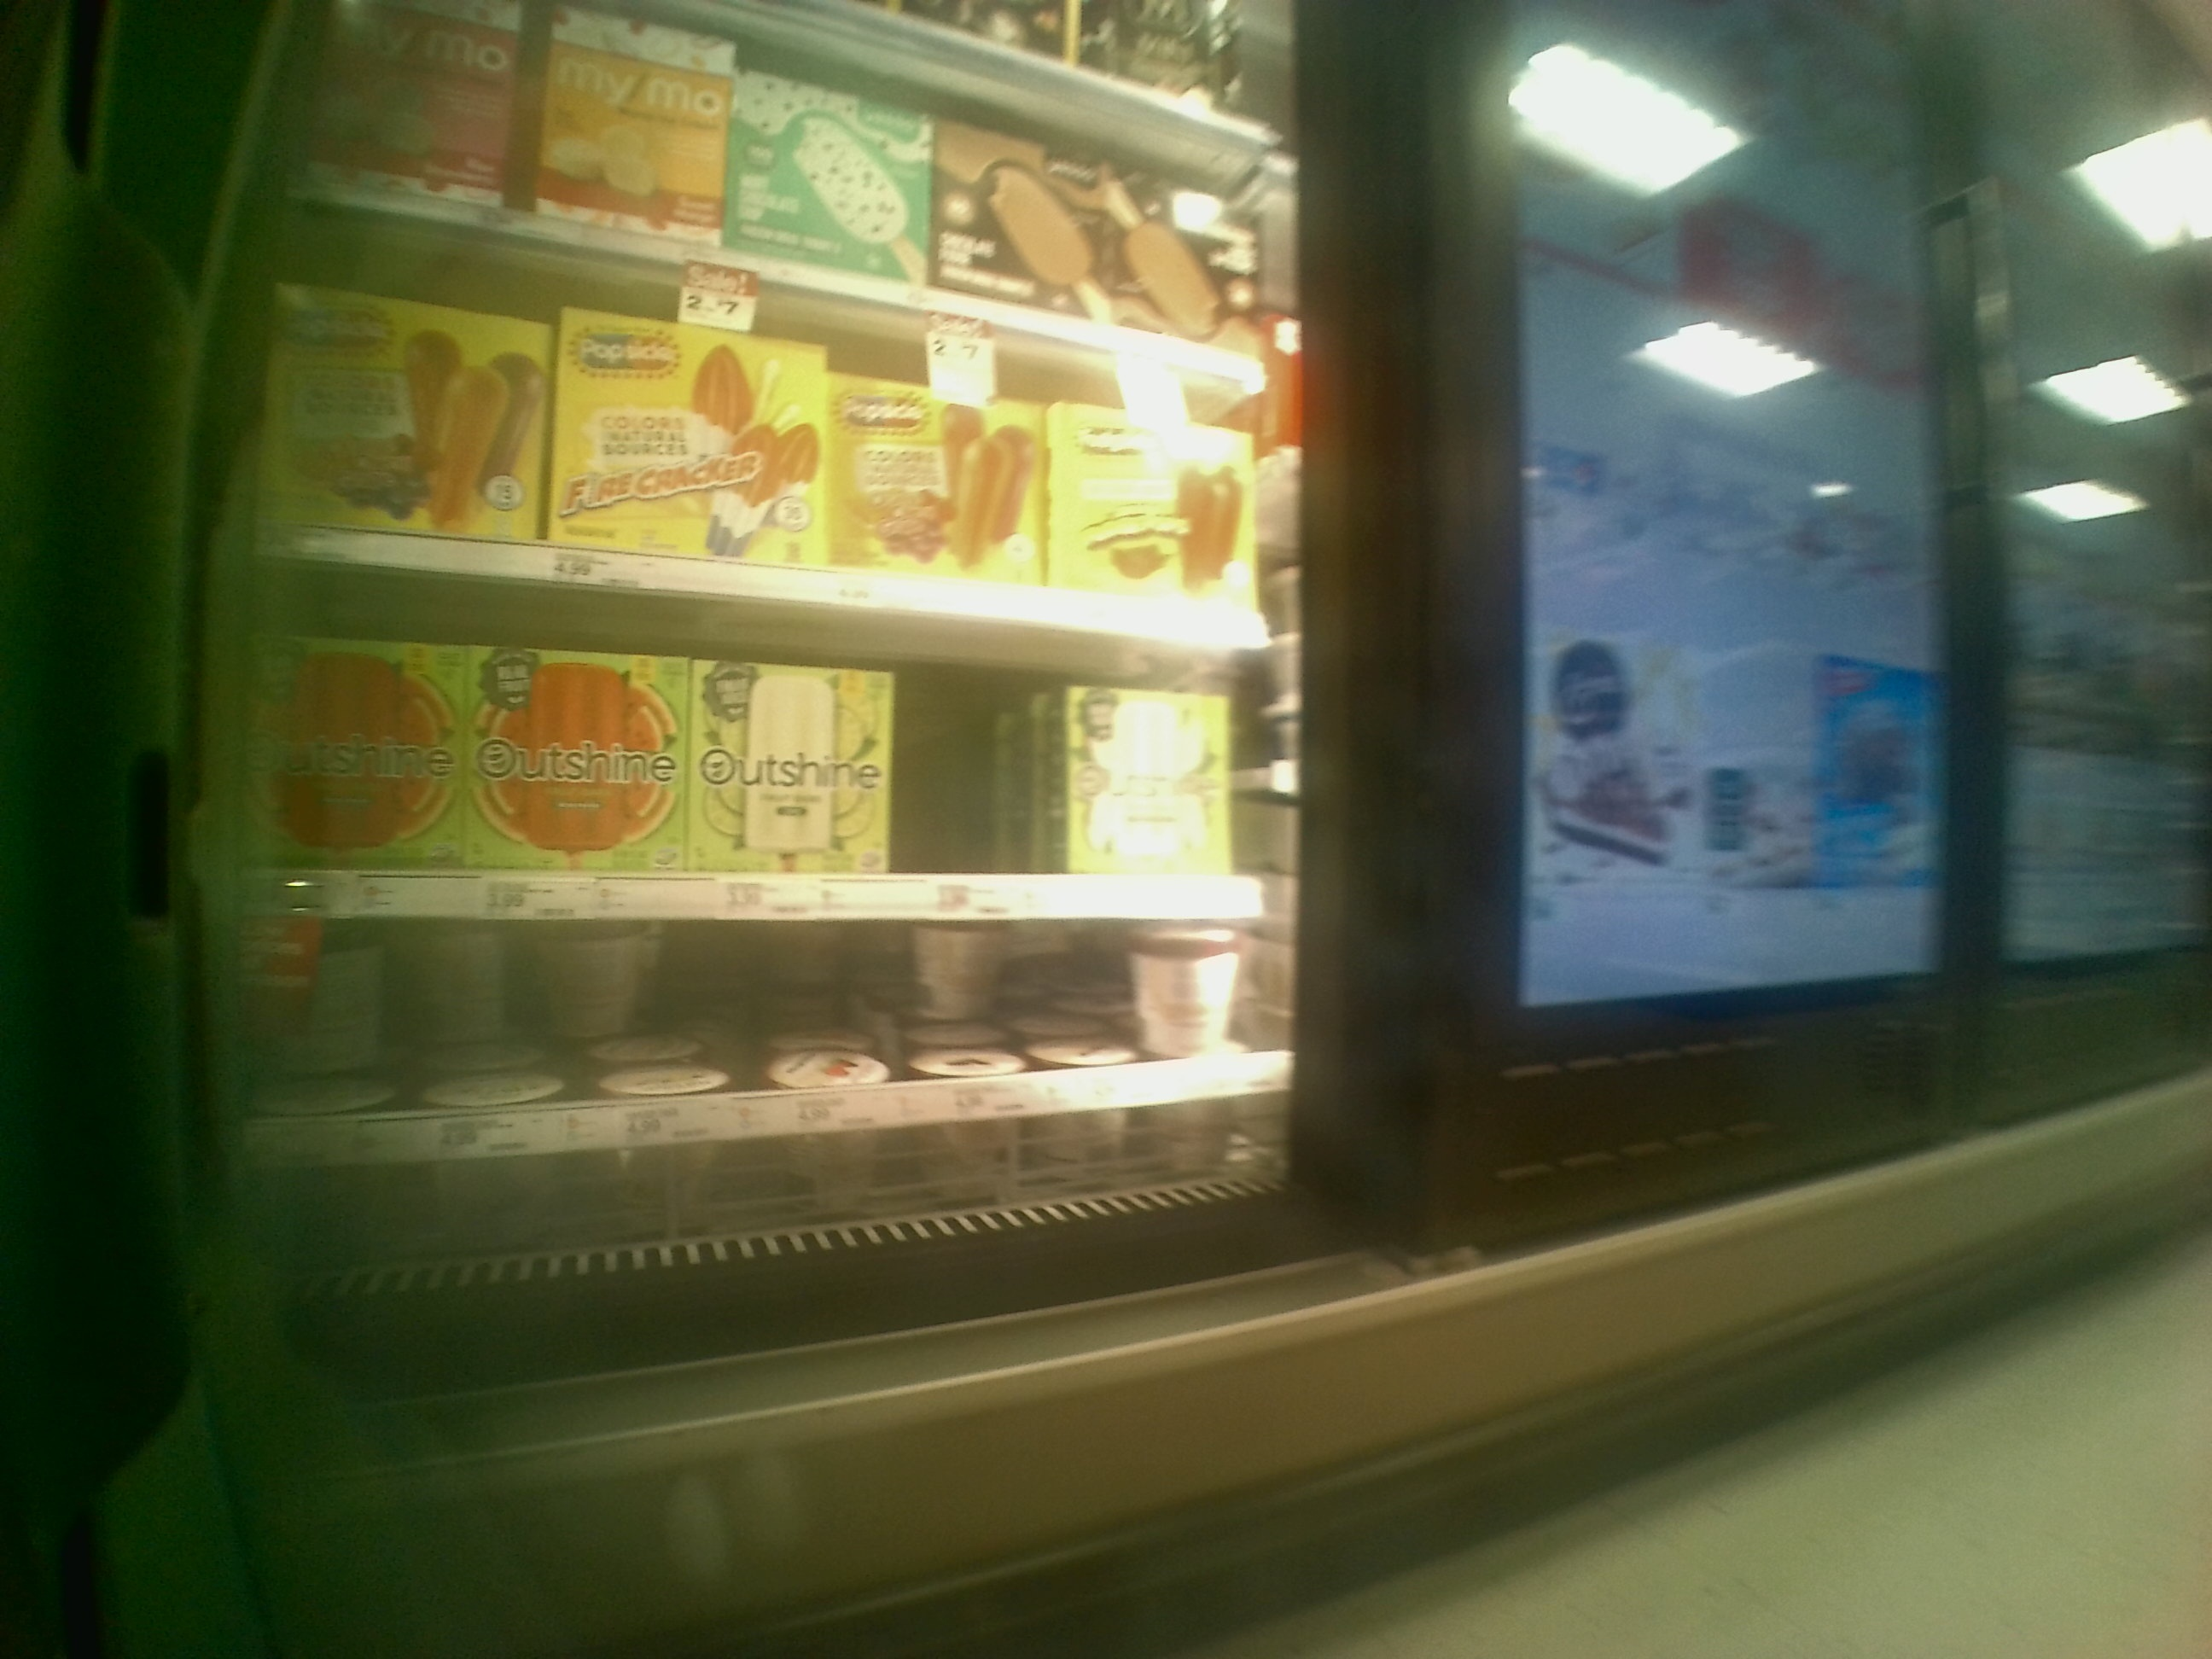ice-cream-shelf: (249, 568, 1294, 924)
